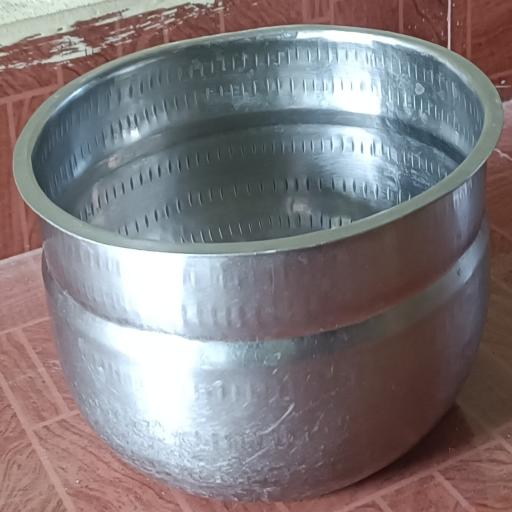vessel: (15, 27, 502, 499)
